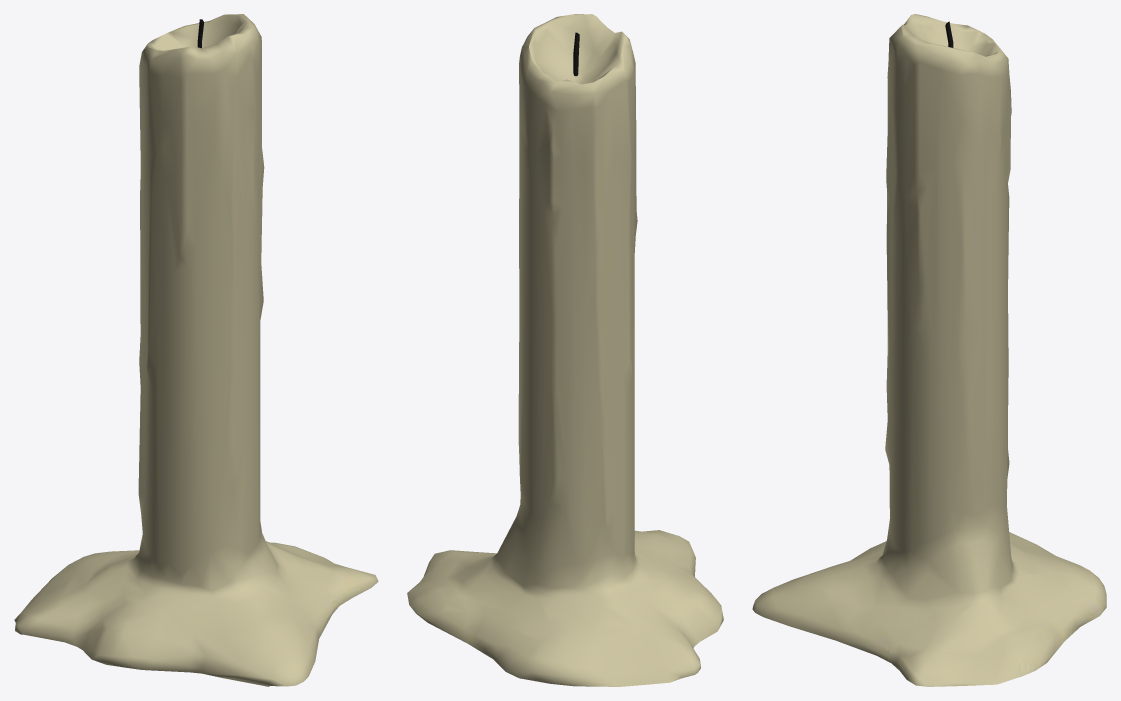
Rendered from SM_Candle_Used_A.glb.
3 views of the same model, side by side, from view 1: azimuth 30°, elevation 25°; view 2: azimuth 150°, elevation 25°; view 3: azimuth 270°, elevation 25° (orthographic). The views are drawn at different scales.
Visible parts, largest first — view 1: SM_Candle_Used_A; view 2: SM_Candle_Used_A; view 3: SM_Candle_Used_A.
Boxes of the visible parts, x1,y1,x2,y2 form: SM_Candle_Used_A: (14,14,378,686); SM_Candle_Used_A: (407,14,723,686); SM_Candle_Used_A: (752,14,1106,686).
Bounding box in the file's own units: 0.0978 × 0.1773 × 0.0955.
Materials: 1 (1 with a texture image).
